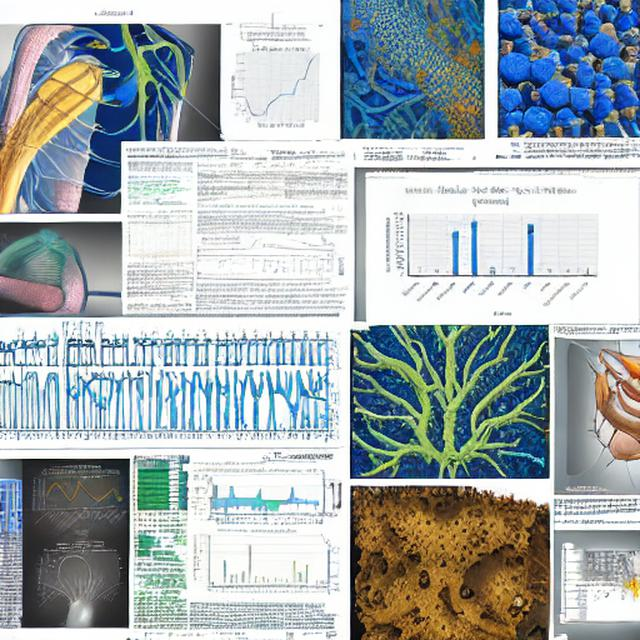Graph: (379, 181, 603, 321), (222, 42, 338, 129), (191, 528, 312, 599), (31, 468, 130, 537), (122, 221, 181, 260), (192, 236, 251, 270)
